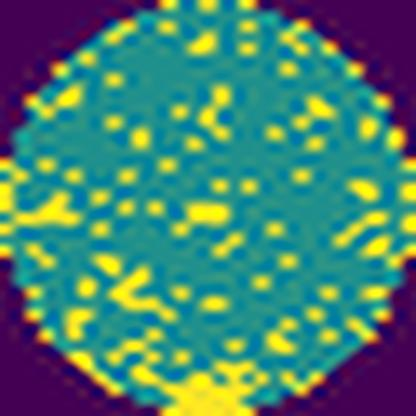Edge-Loc: (152, 354, 265, 416)
